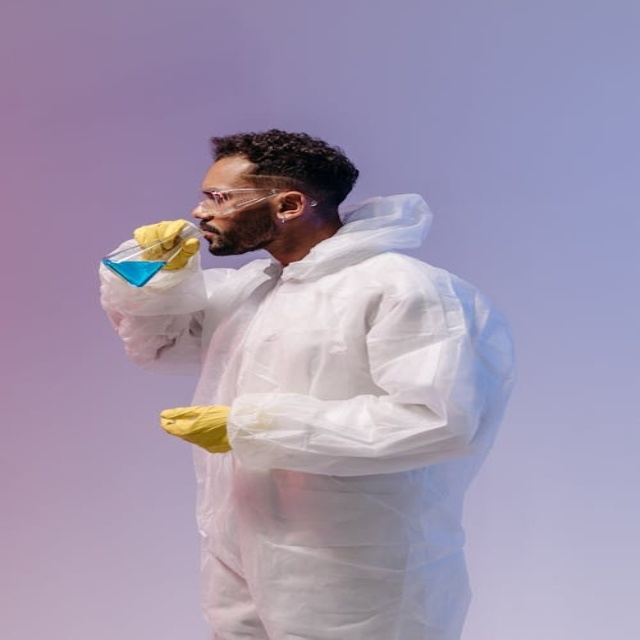Gafas: (196, 180, 317, 209)
Guantes: (132, 219, 201, 272), (160, 405, 234, 453)
Sin_mascara: (201, 222, 244, 255)
